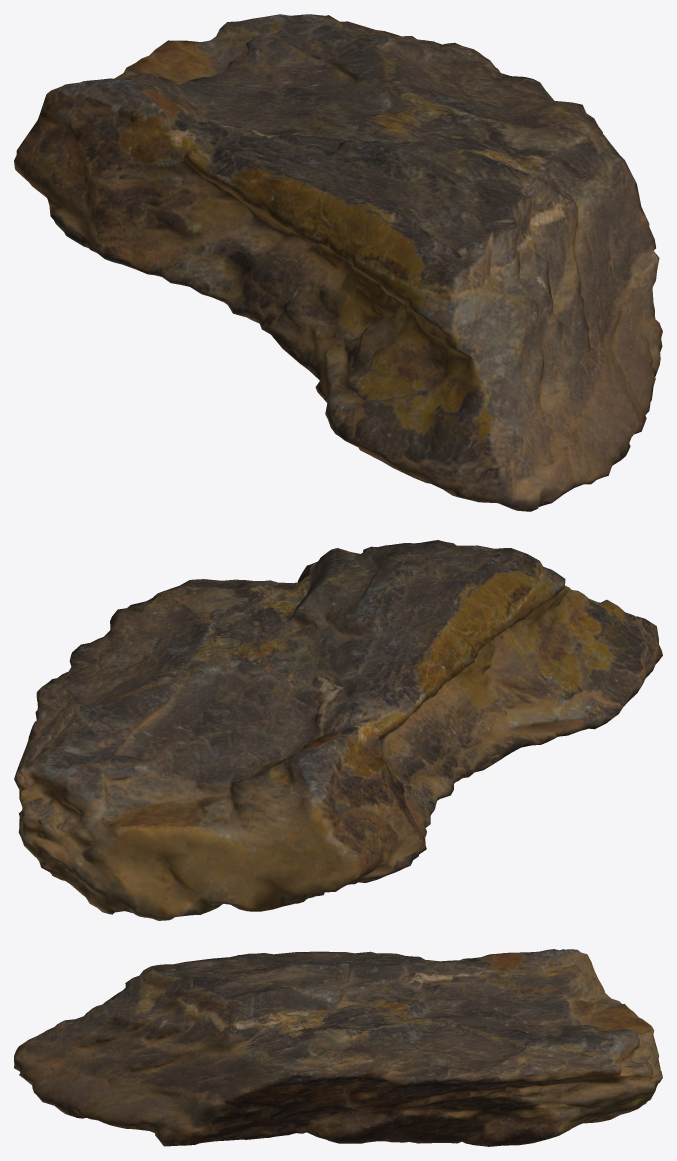
File: rock.glb
3 views of the same model, one above another, from view 1: azimuth 30°, elevation 25°; view 2: azimuth 150°, elevation 25°; view 3: azimuth 270°, elevation 25° (orthographic). The views are drawn at different scales.
Visible parts, largest first — view 1: rock_09_LOD0; view 2: rock_09_LOD0; view 3: rock_09_LOD0.
Boxes of the visible parts, x1,y1,x2,y2 form: rock_09_LOD0: (14,14,662,511); rock_09_LOD0: (14,540,662,920); rock_09_LOD0: (14,949,662,1146).
Size of the model in its own units: 0.074 by 0.0329 by 0.1446.
1 material, 1 textured.
